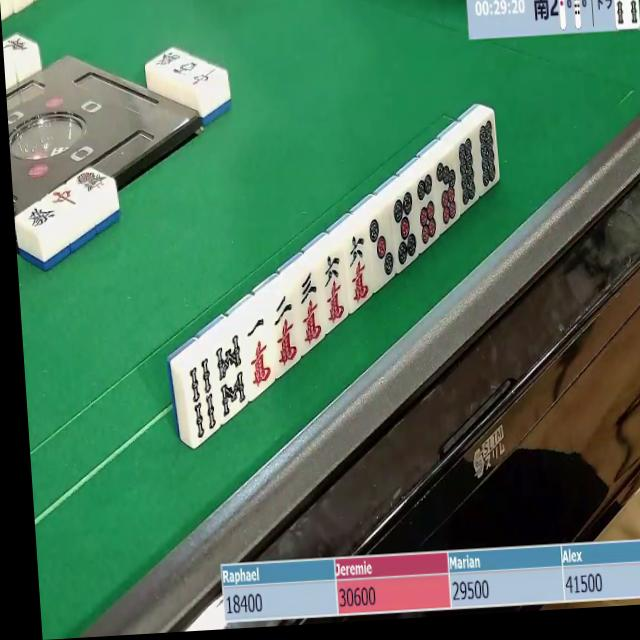m1: (240, 315, 281, 395)
m2: (266, 293, 306, 373)
m3: (294, 268, 329, 350)
m6: (344, 232, 379, 309), (320, 250, 353, 327)
s3: (614, 0, 640, 29)
s4: (182, 356, 223, 449)
s8: (211, 334, 254, 423)
t3: (365, 213, 398, 286)
t5: (391, 191, 422, 270)
t6: (410, 172, 444, 251)
t7: (430, 156, 462, 231)
t8: (472, 117, 499, 193), (456, 136, 482, 209)
